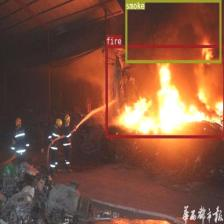fire: (105, 44, 224, 137)
smoke: (124, 0, 220, 62)
